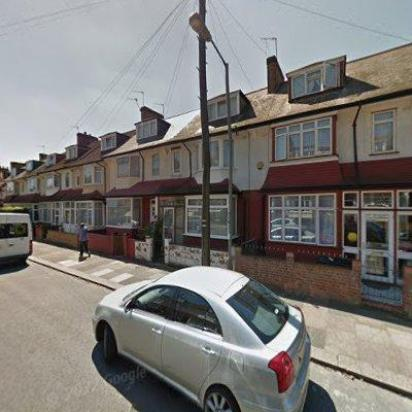stationary-car-onstreet: (92, 266, 312, 412)
stationary-light-truck-onstreet: (0, 212, 36, 272)
